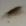cockroach: (7, 6, 22, 16)
